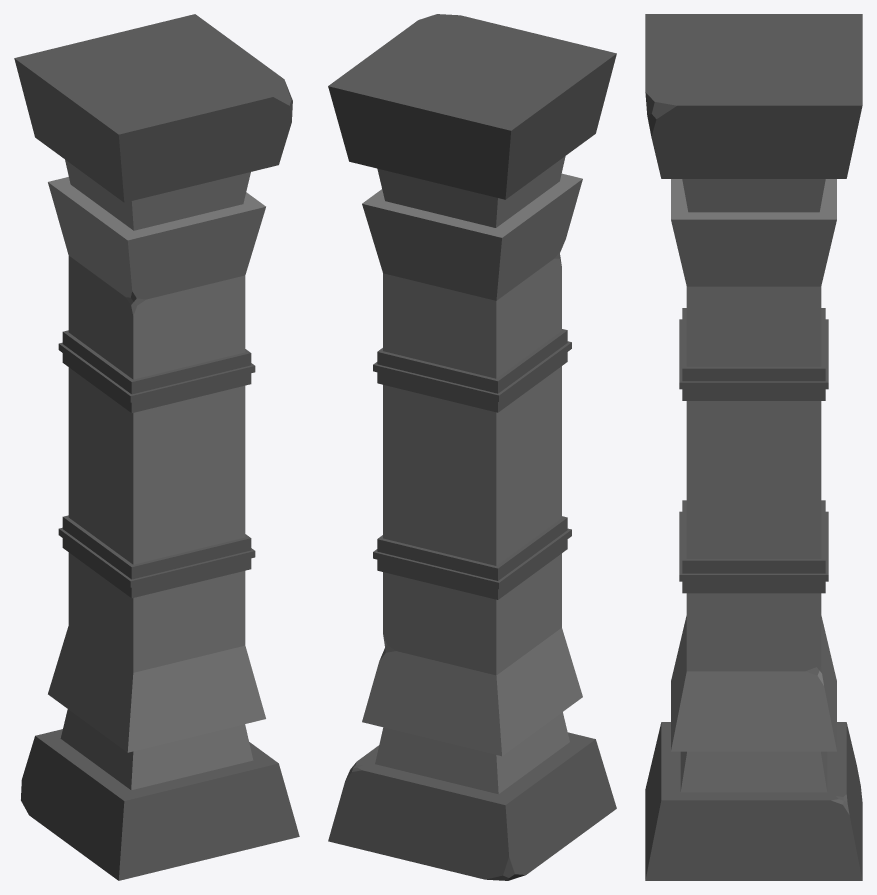
Rendered from Pillar_01.fbx.
The picture shows the model from 3 angles, left to right: view 1: azimuth 30°, elevation 25°; view 2: azimuth 150°, elevation 25°; view 3: azimuth 270°, elevation 25°; orthographic projection. The views are drawn at different scales.
Parts seen in each view (by area): view 1: Pillar_01; view 2: Pillar_01; view 3: Pillar_01.
Boxes of the visible parts, box(x1,y1,x2,y2) form: Pillar_01: box(14, 14, 299, 880); Pillar_01: box(328, 14, 616, 880); Pillar_01: box(645, 14, 862, 880).
Bounding box in the file's own units: 63.97 × 252 × 63.97.
